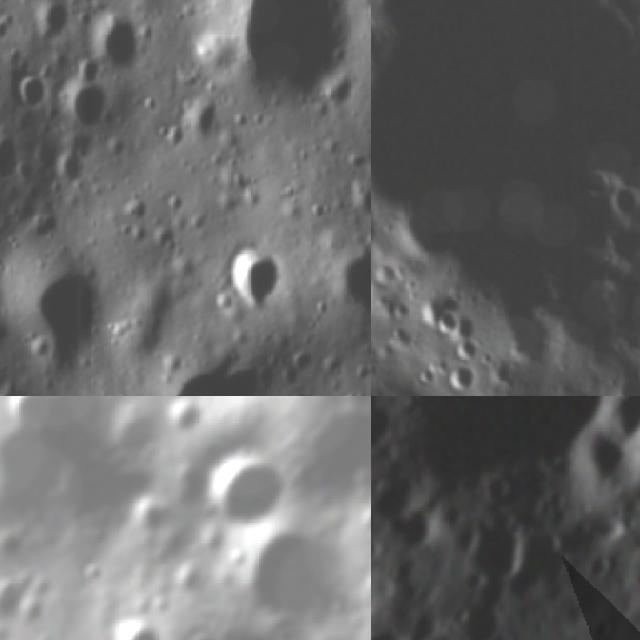crater: (371, 0, 640, 354), (371, 396, 640, 561), (0, 396, 169, 531), (220, 506, 371, 640), (233, 0, 359, 101), (190, 433, 306, 540), (272, 396, 371, 509), (441, 502, 544, 608), (20, 253, 106, 376), (566, 424, 640, 512), (382, 501, 457, 576), (218, 241, 288, 313), (82, 5, 144, 78), (371, 466, 434, 537), (163, 454, 220, 508), (57, 83, 112, 138), (144, 519, 193, 577), (121, 490, 173, 542), (3, 59, 51, 115), (420, 290, 471, 342), (27, 0, 78, 49), (0, 396, 64, 435), (475, 469, 526, 517), (98, 604, 165, 640), (452, 603, 514, 640), (156, 398, 207, 441), (606, 396, 640, 458), (0, 128, 32, 183), (0, 516, 30, 573), (170, 560, 210, 600), (371, 612, 425, 640), (443, 361, 484, 396), (607, 180, 640, 222), (172, 617, 229, 640), (76, 556, 109, 588), (347, 179, 371, 222), (371, 203, 382, 240)
